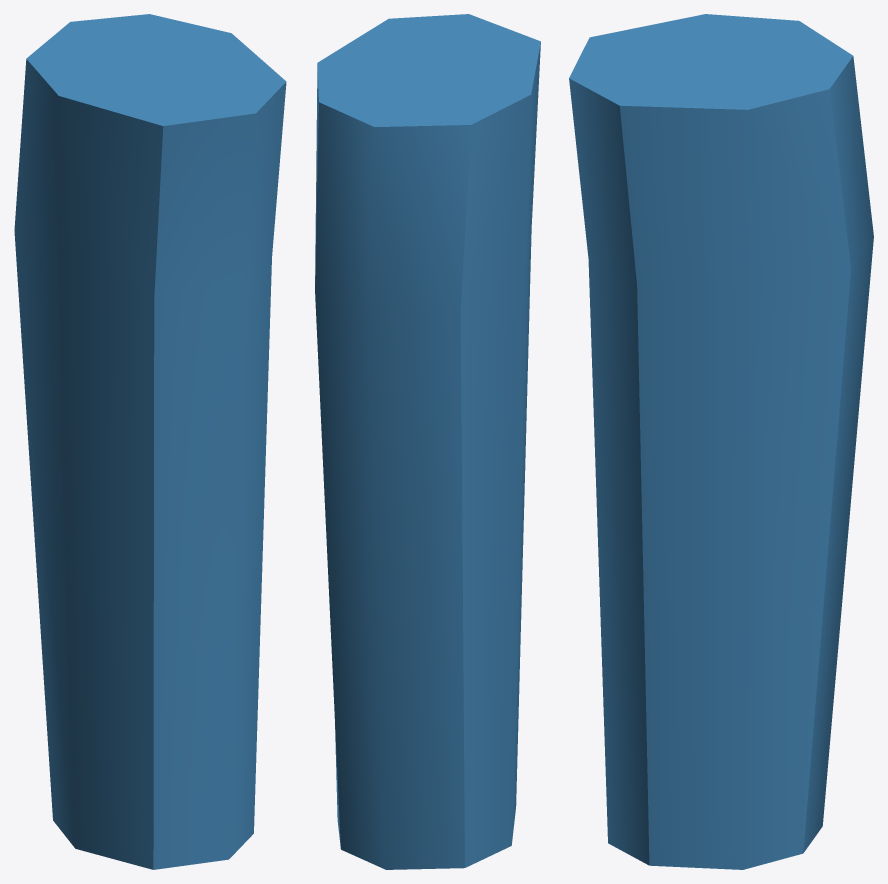
File: Driver_Leg_02B.fbx
3 views of the same model, side by side, from view 1: azimuth 30°, elevation 25°; view 2: azimuth 150°, elevation 25°; view 3: azimuth 270°, elevation 25° (orthographic).
Visible parts, largest first — view 1: Driver_Leg_02B; view 2: Driver_Leg_02B; view 3: Driver_Leg_02B.
Boxes of the visible parts, box(x1,y1,x2,y2) form: Driver_Leg_02B: box(14, 14, 286, 869); Driver_Leg_02B: box(315, 14, 540, 869); Driver_Leg_02B: box(569, 14, 873, 869).
Size of the model in its own units: 12.57 by 47 by 16.9.
